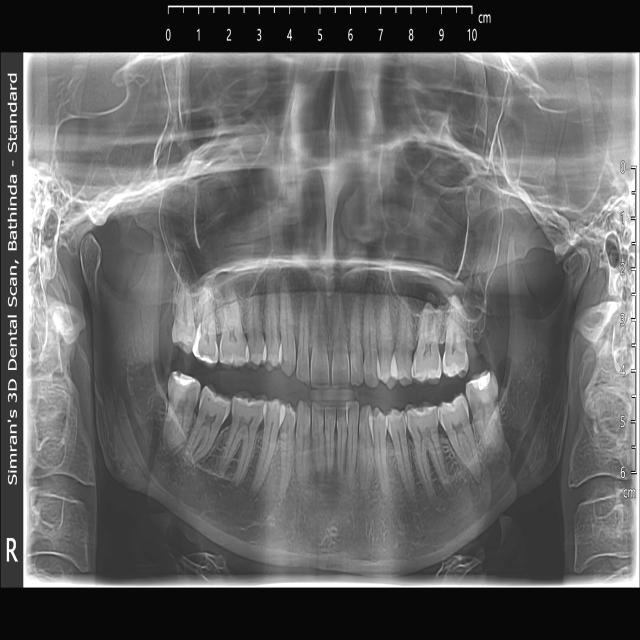Caries: (463, 364, 498, 419)
Filling: (167, 370, 200, 415), (193, 319, 220, 363), (474, 373, 491, 394)
